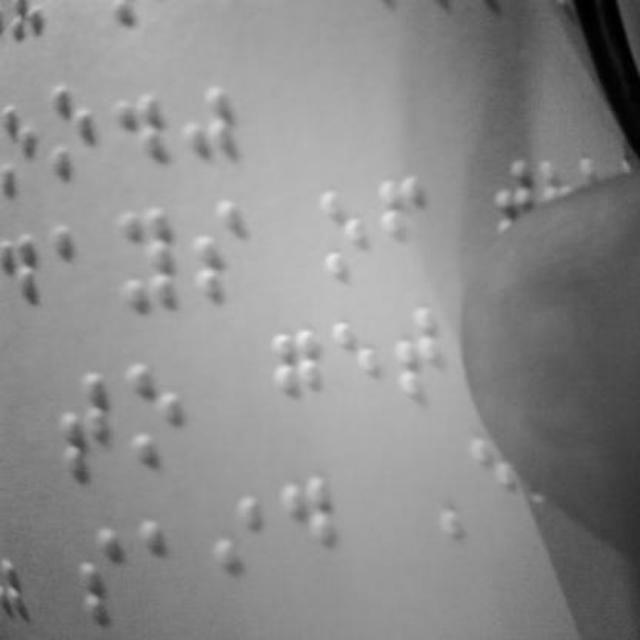braiile: (54, 371, 118, 484), (114, 202, 178, 314), (278, 472, 336, 594), (72, 524, 132, 640), (126, 354, 186, 470), (268, 325, 328, 441), (210, 493, 266, 617), (333, 317, 391, 433), (46, 78, 108, 184), (138, 512, 194, 626), (190, 192, 246, 304), (374, 170, 430, 282), (316, 178, 372, 286), (49, 214, 102, 324), (392, 304, 444, 414), (0, 225, 48, 328), (0, 93, 44, 199)
